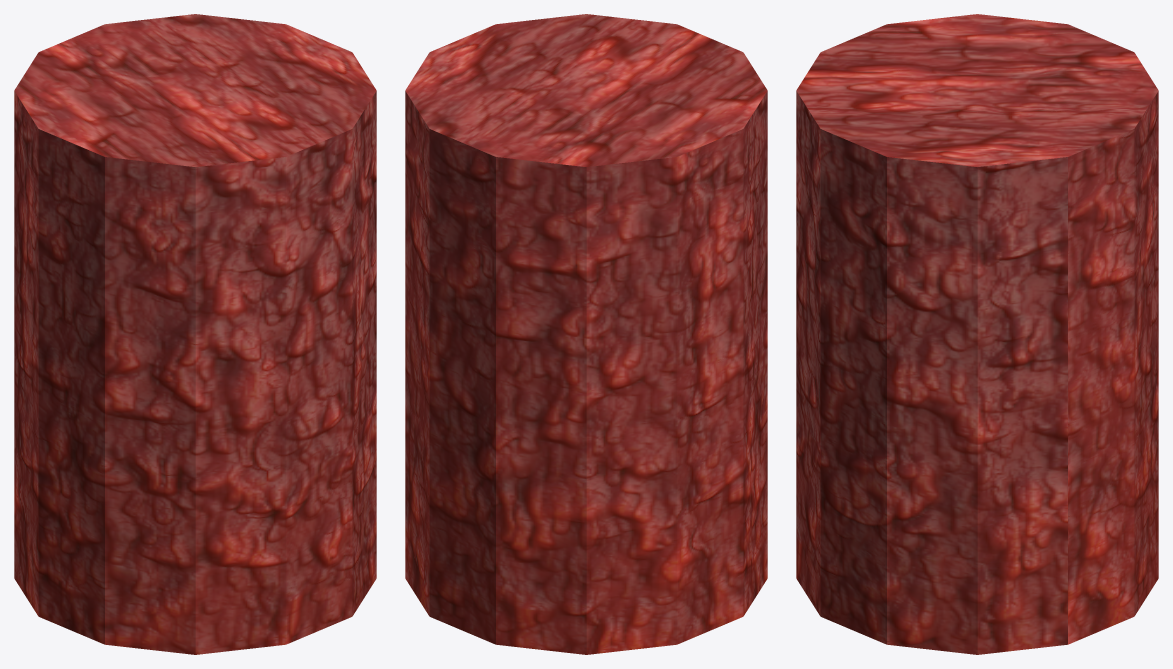
The model's file is CandleRed.fbx.
3 renders of one model, left to right at view 1: azimuth 30°, elevation 25°; view 2: azimuth 150°, elevation 25°; view 3: azimuth 270°, elevation 25°, orthographic.
Visible parts, largest first — view 1: Candle; view 2: Candle; view 3: Candle.
Boxes of the visible parts, left/top/right/bottom form: Candle: left=14, top=14, right=376, bottom=654; Candle: left=405, top=14, right=767, bottom=654; Candle: left=796, top=14, right=1158, bottom=654.
Bounding box in the file's own units: 0.7189 × 1.07 × 0.7189.
